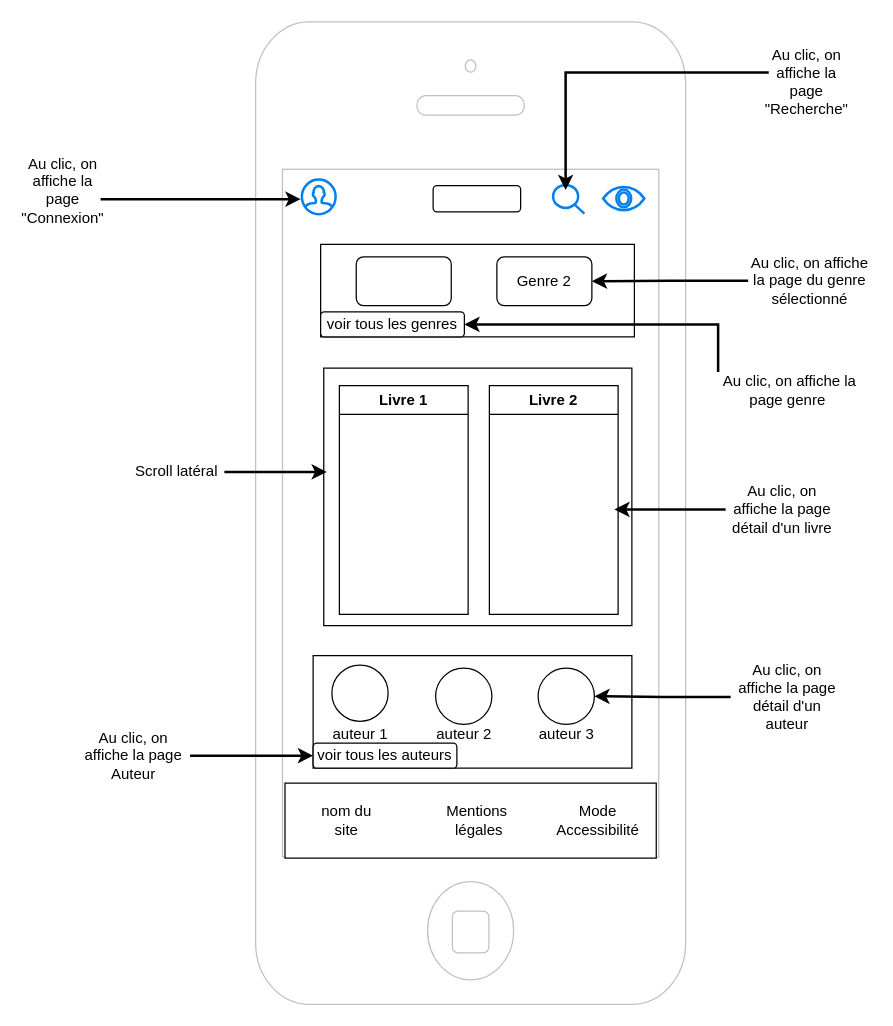
Image size: 893x1026. Some labels were removed from this diagram. Here are the shapes that lost their labels. From the top down, the centre of each, then its label:
At (x=476, y=198): "Logo".
At (x=403, y=281): "Genre 1".
